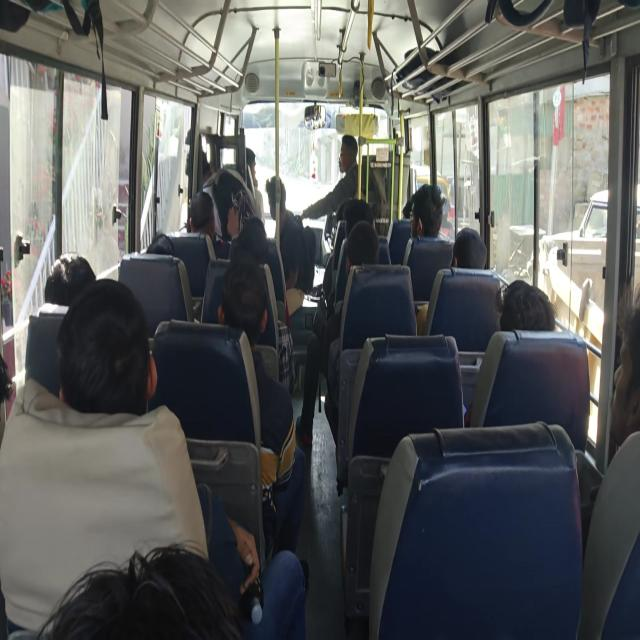person: (56, 290, 157, 429), (60, 509, 160, 640), (43, 256, 112, 333), (588, 324, 640, 424), (512, 276, 564, 363), (196, 154, 242, 208), (182, 197, 216, 253), (455, 235, 501, 272), (336, 130, 371, 178), (232, 258, 259, 316), (418, 191, 448, 242), (241, 225, 275, 270), (345, 232, 391, 264), (341, 192, 378, 228), (147, 227, 182, 265), (265, 171, 290, 219), (406, 175, 431, 218), (237, 147, 264, 182), (246, 213, 277, 234)
